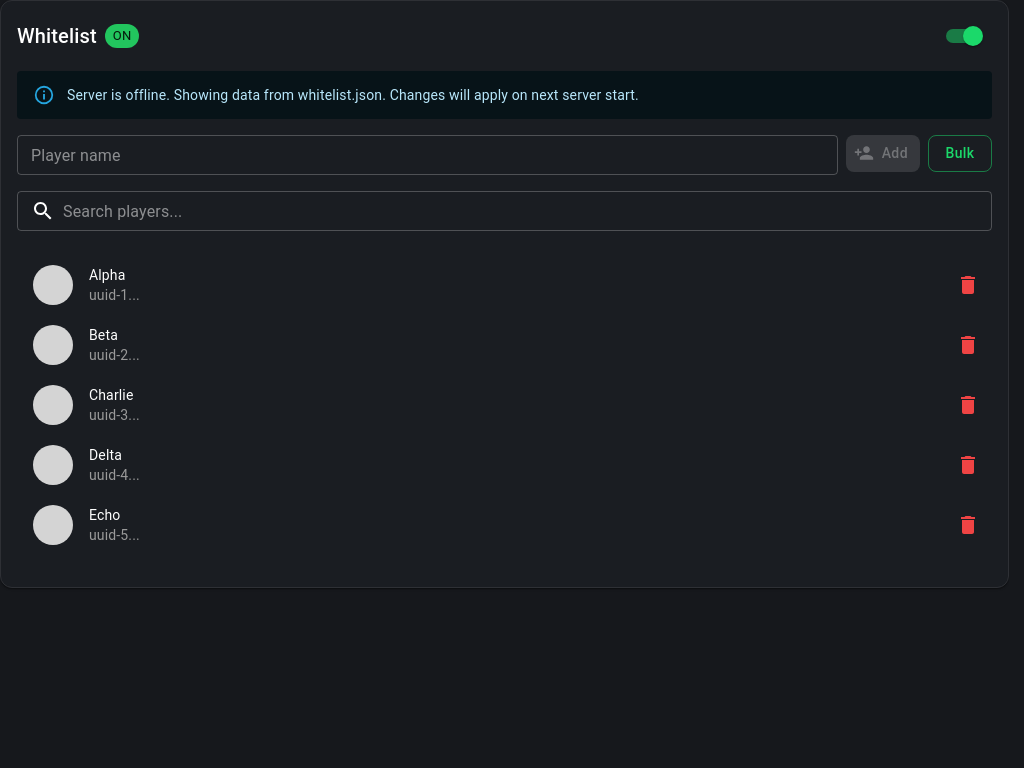
Test: WhitelistManager › Search/Filter › should show no matching players message
Type "zzz" into the field with placeholder "Search players...".
click(528, 211); type("zzz")  # box left=63, top=191, right=992, bottom=231
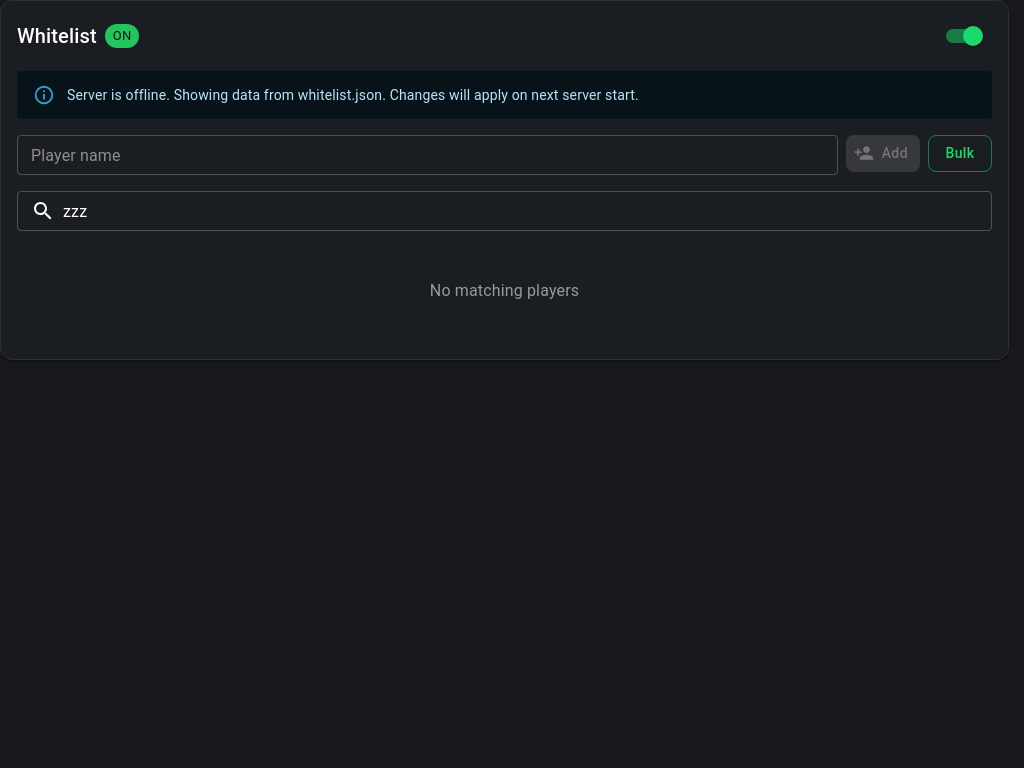
Result: the text with test id "no-match-message" reads "No matching players" at left=430, top=281, right=579, bottom=300
